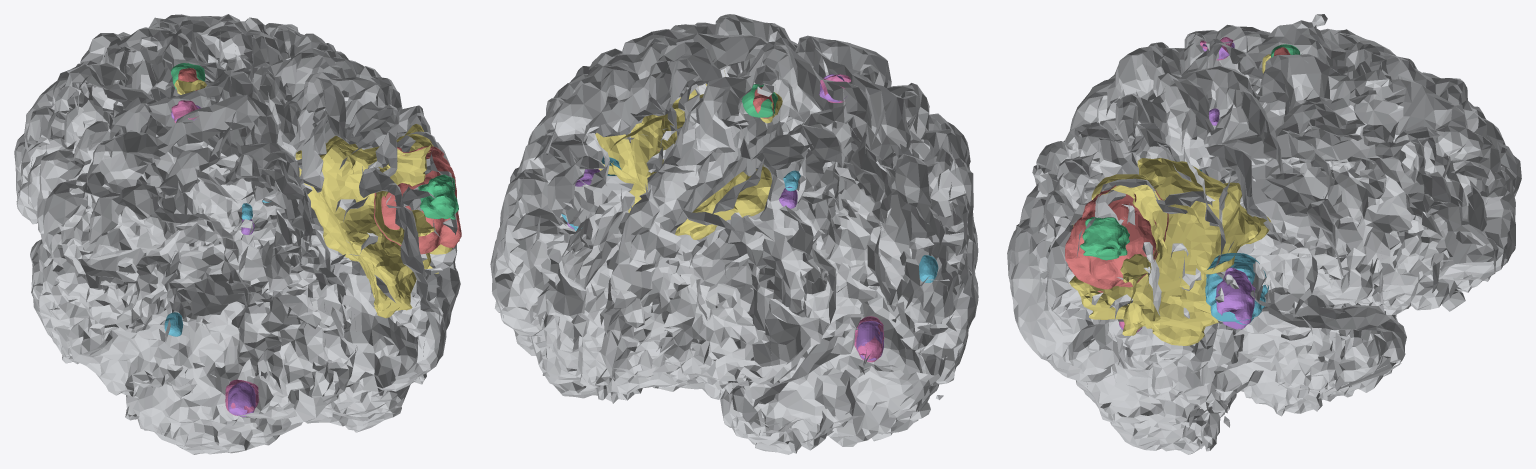
File: case_brain_mets.glb
3 views of the same model, side by side, from view 1: azimuth 30°, elevation 25°; view 2: azimuth 150°, elevation 25°; view 3: azimuth 270°, elevation 25° (orthographic). The views are drawn at different scales.
Visible parts, largest first — view 1: Brain surface (skull-stripped, PROTEAS), Brain metastasis P14 — Baseline pre-SRS vasogenic oedema (52, Brain metastasis P14 — Baseline pre-SRS enhancing/necrotic t, Brain metastasis P14 — Post-SRS follow-up (marked regression, Brain metastasis P12 — Post-SRS follow-up 1 residual (0.9 mL, Brain metastasis P12 — Baseline pre-SRS enhancing tumour (1., Brain metastasis P05 — Baseline pre-SRS enhancing tumour (5.; view 2: Brain surface (skull-stripped, PROTEAS), Brain metastasis P14 — Baseline pre-SRS vasogenic oedema (52, Brain metastasis P05 — Baseline pre-SRS enhancing tumour (5., Brain metastasis P12 — Baseline pre-SRS enhancing tumour (1., Brain metastasis P12 — Post-SRS follow-up 1 residual (0.9 mL, Brain metastasis P14 — Post-SRS follow-up (marked regression, Brain metastasis P05 — Post-SRS follow-up 1 residual (2.1 mL; view 3: Brain surface (skull-stripped, PROTEAS), Brain metastasis P14 — Baseline pre-SRS vasogenic oedema (52, Brain metastasis P14 — Baseline pre-SRS enhancing/necrotic t, Brain metastasis P14 — Post-SRS follow-up (marked regression, Brain metastasis P05 — Post-SRS follow-up 1 residual (2.1 mL, Brain metastasis P05 — Baseline pre-SRS enhancing tumour (5..
Part boxes in pixels (x1,y1,x2,y2): Brain surface (skull-stripped, PROTEAS): [14, 14, 460, 454]; Brain metastasis P14 — Baseline pre-SRS vasogenic oedema (52: [174, 79, 452, 318]; Brain metastasis P14 — Baseline pre-SRS enhancing/necrotic t: [178, 68, 461, 254]; Brain metastasis P14 — Post-SRS follow-up (marked regression: [171, 63, 458, 219]; Brain metastasis P12 — Post-SRS follow-up 1 residual (0.9 mL: [171, 104, 255, 416]; Brain metastasis P12 — Baseline pre-SRS enhancing tumour (1.: [171, 100, 258, 415]; Brain metastasis P05 — Baseline pre-SRS enhancing tumour (5.: [164, 200, 270, 336]; Brain surface (skull-stripped, PROTEAS): [490, 14, 978, 454]; Brain metastasis P14 — Baseline pre-SRS vasogenic oedema (52: [595, 70, 782, 239]; Brain metastasis P05 — Baseline pre-SRS enhancing tumour (5.: [561, 156, 938, 282]; Brain metastasis P12 — Baseline pre-SRS enhancing tumour (1.: [820, 74, 884, 362]; Brain metastasis P12 — Post-SRS follow-up 1 residual (0.9 mL: [819, 74, 883, 360]; Brain metastasis P14 — Post-SRS follow-up (marked regression: [742, 84, 777, 117]; Brain metastasis P05 — Post-SRS follow-up 1 residual (2.1 mL: [567, 169, 797, 229]; Brain surface (skull-stripped, PROTEAS): [1007, 14, 1521, 454]; Brain metastasis P14 — Baseline pre-SRS vasogenic oedema (52: [1069, 54, 1271, 345]; Brain metastasis P14 — Baseline pre-SRS enhancing/necrotic t: [1065, 47, 1290, 292]; Brain metastasis P14 — Post-SRS follow-up (marked regression: [1080, 44, 1300, 260]; Brain metastasis P05 — Post-SRS follow-up 1 residual (2.1 mL: [1209, 108, 1255, 329]; Brain metastasis P05 — Baseline pre-SRS enhancing tumour (5.: [1200, 170, 1268, 324].
Bounding box in the file's own units: 151 × 141 × 179.
